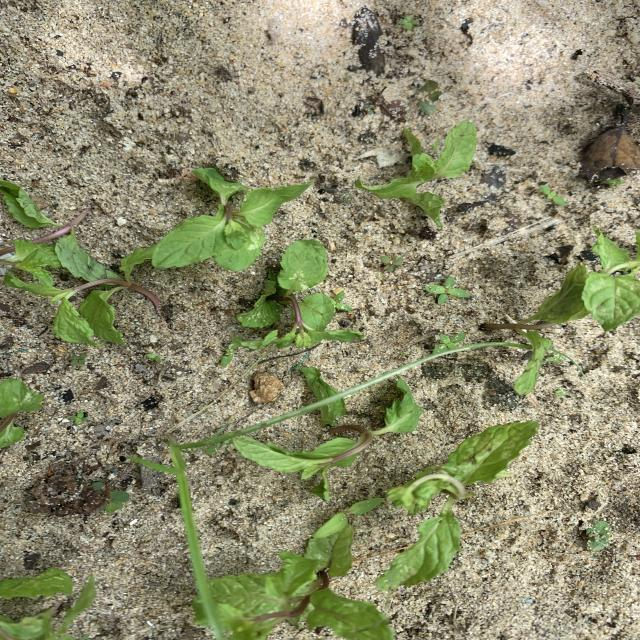crop: (1, 183, 159, 345), (196, 513, 393, 639), (509, 228, 639, 395), (515, 228, 639, 392), (236, 394, 421, 498), (153, 168, 311, 270), (236, 240, 363, 348), (356, 120, 475, 227), (1, 568, 95, 638), (1, 379, 42, 447)
weed: (132, 350, 454, 640), (376, 421, 539, 590), (313, 498, 385, 538), (425, 276, 470, 303), (92, 479, 129, 511), (415, 80, 440, 115), (585, 520, 610, 551), (433, 333, 466, 354), (219, 337, 242, 367), (540, 185, 566, 205), (380, 255, 403, 271), (399, 15, 419, 30), (70, 410, 89, 425), (68, 354, 89, 366), (144, 353, 162, 362)
